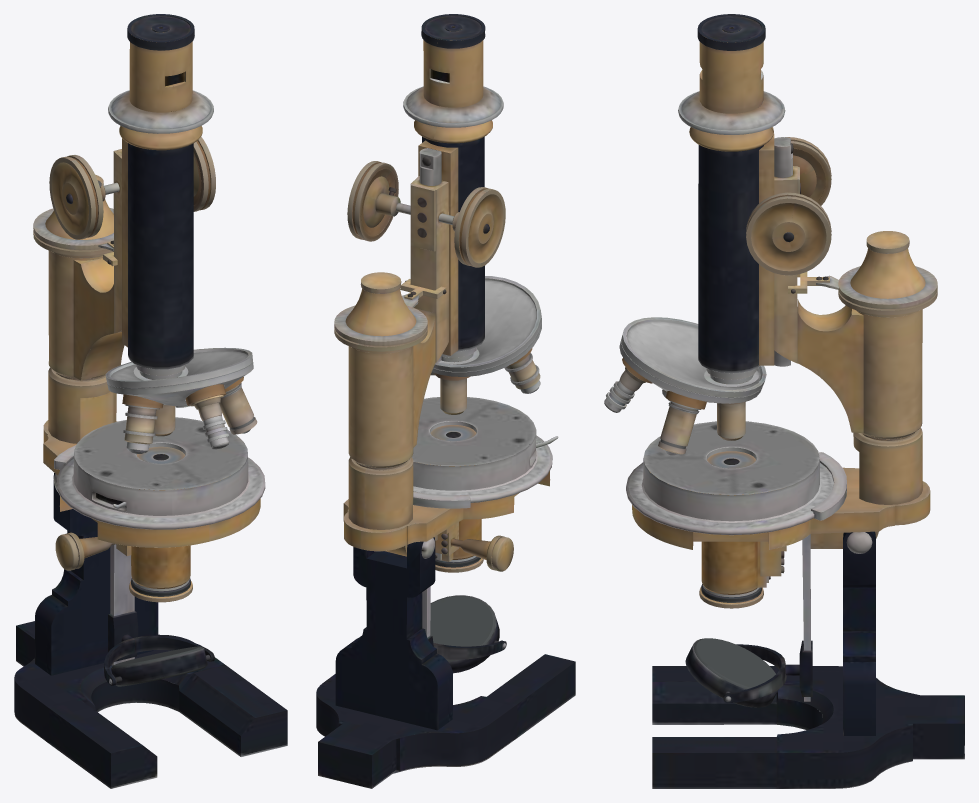
Rendered from microscope.glb.
3 views of the same model, side by side, from view 1: azimuth 30°, elevation 25°; view 2: azimuth 150°, elevation 25°; view 3: azimuth 270°, elevation 25° (orthographic). The views are drawn at different scales.
Visible parts, largest first — view 1: microscope_body; view 2: microscope_body; view 3: microscope_body.
Boxes of the visible parts, left/top/right/bottom form: microscope_body: left=14, top=14, right=287, bottom=788; microscope_body: left=316, top=14, right=575, bottom=788; microscope_body: left=604, top=14, right=964, bottom=788.
Size of the model in its own units: 0.072 by 0.27 by 0.1229.
2 materials, 2 textured.
